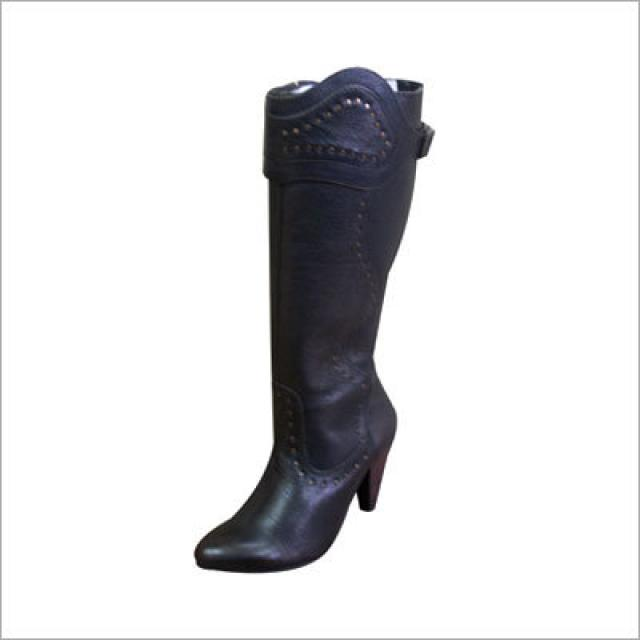boot: (183, 63, 456, 586)
